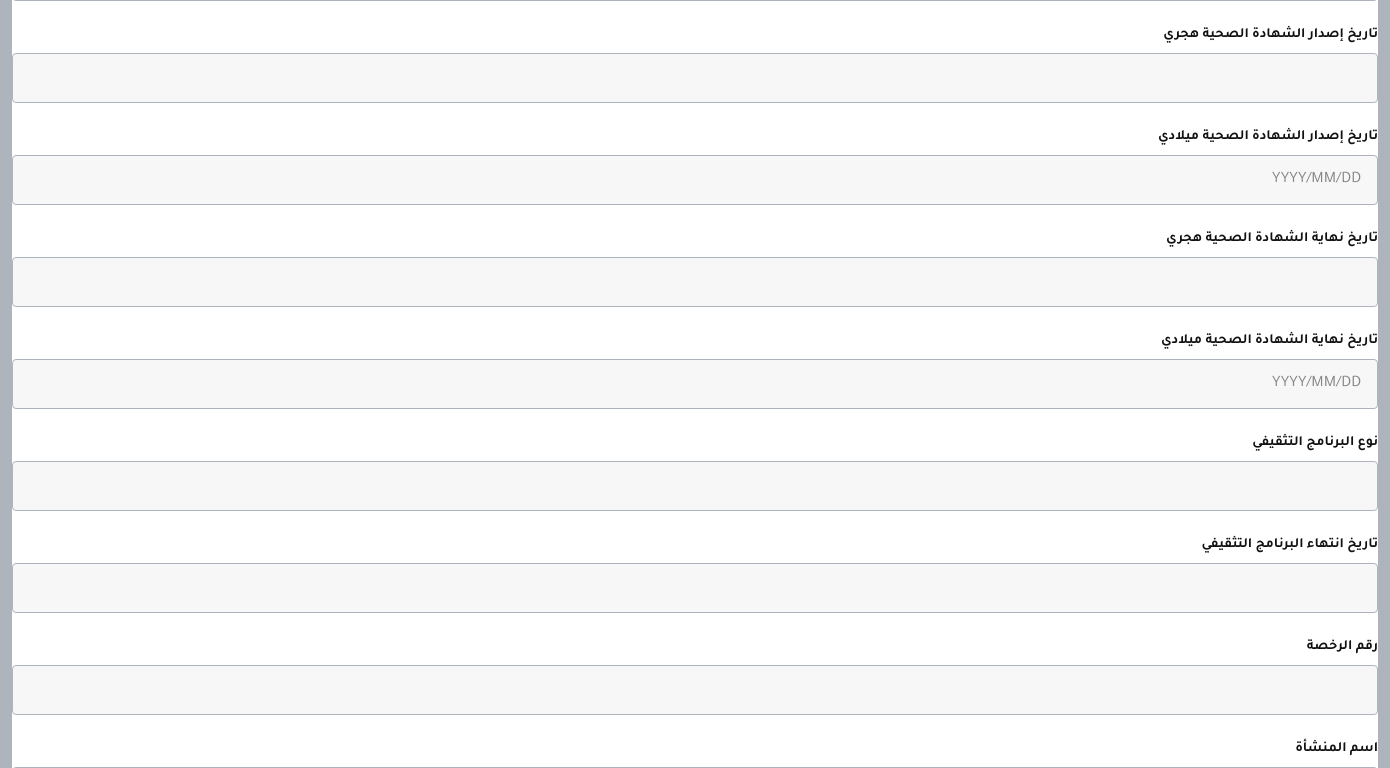
Scenario: EmployeeForm › auto-fills the Hijri expiry date when the Gregorian expiry date changes
(page scrolled)
Type "2027-06-30" into the field labelled "تاريخ نهاية الشهادة الصحية ميلادي" at (695, 384), box [12,359,1378,409]
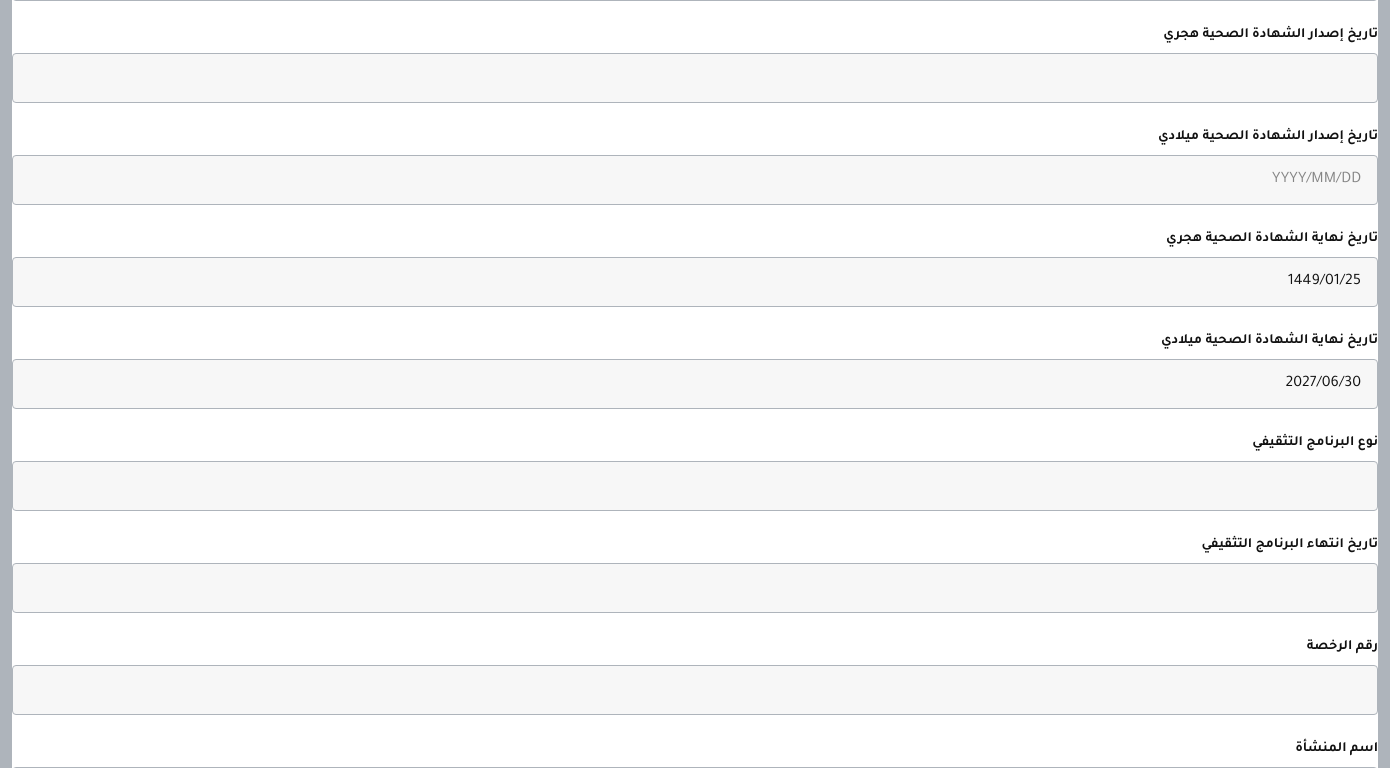
Expected: the field labelled "تاريخ نهاية الشهادة الصحية هجري" holds "1449/01/25", [12,257,1378,307]
